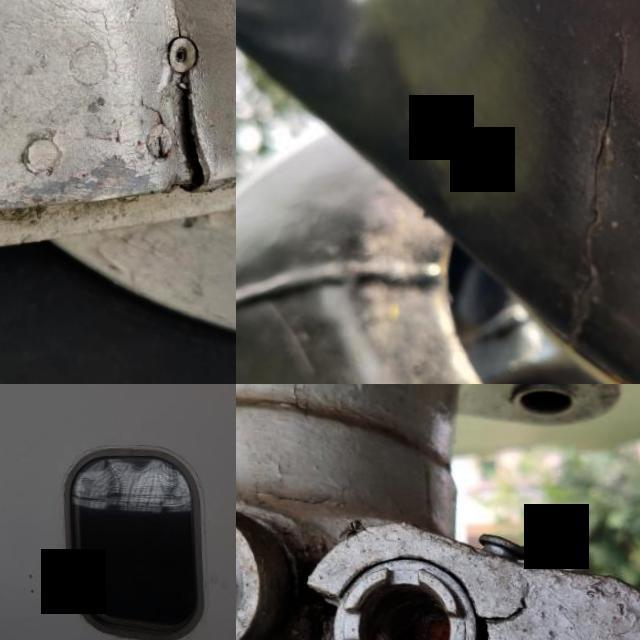Crack: (486, 8, 640, 371), (129, 60, 236, 207), (474, 582, 530, 630)
